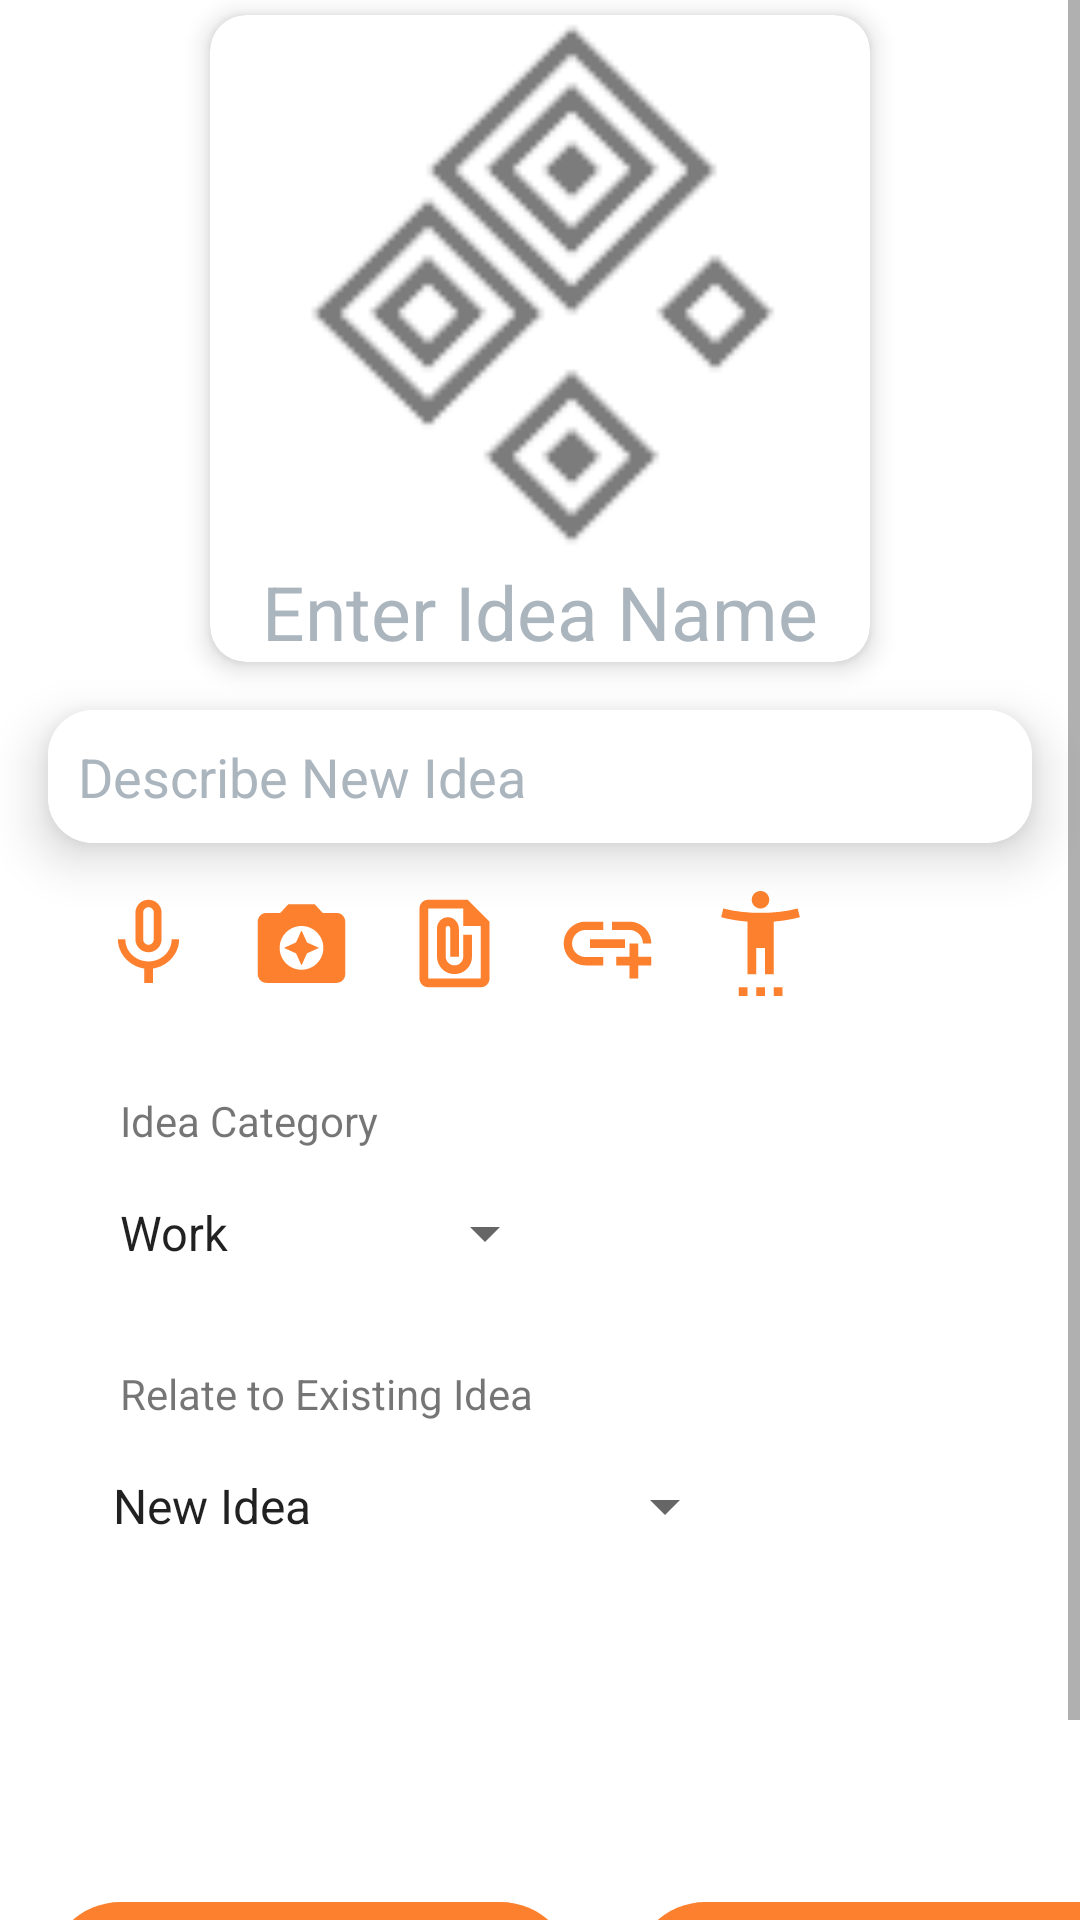

Icon click points for this 1080px×1920px phone screenshot, format [x,y]:
camera: [301,943]
doc: [454,943]
link: [607,950]
mic: [148,941]
person: [760,943]
